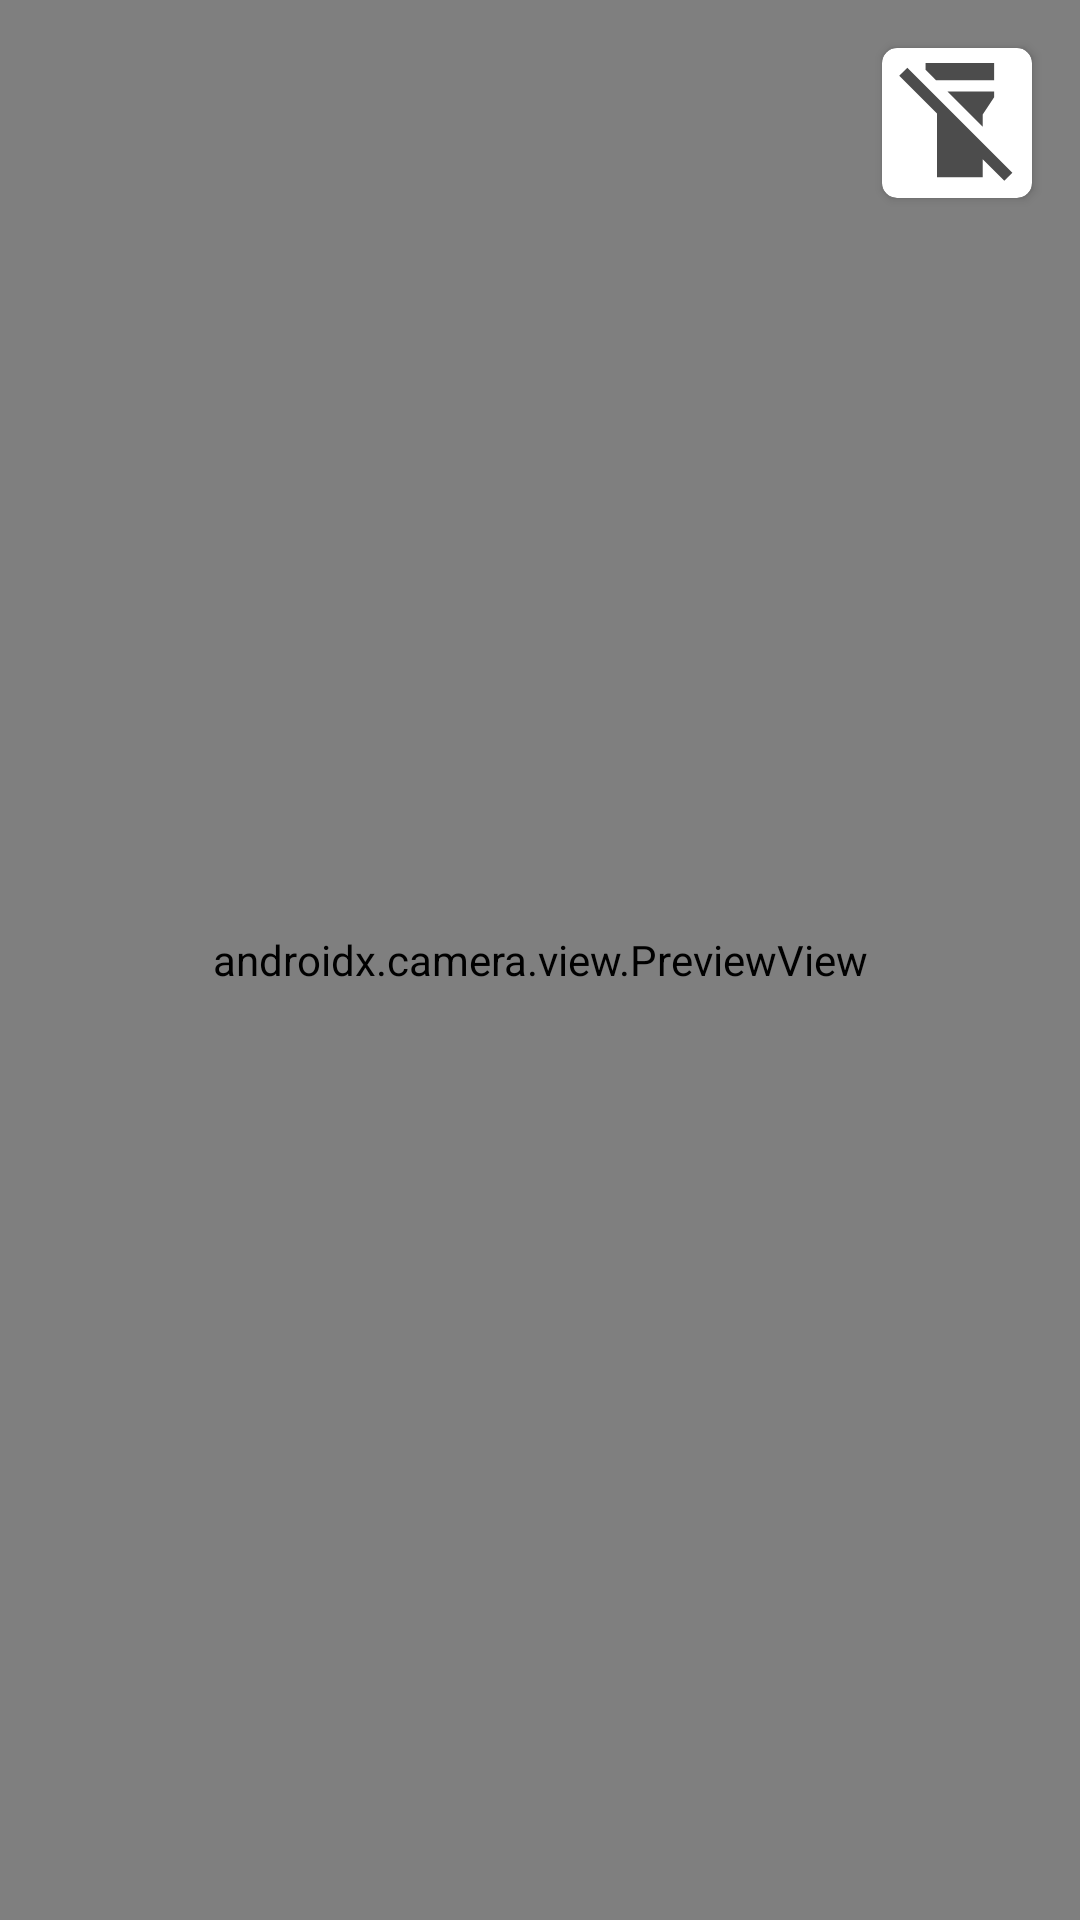

Named icons in this screenshot (1080 × 1920) and their centers, (x=x, y=y):
flashlight off: (x=955, y=122)
